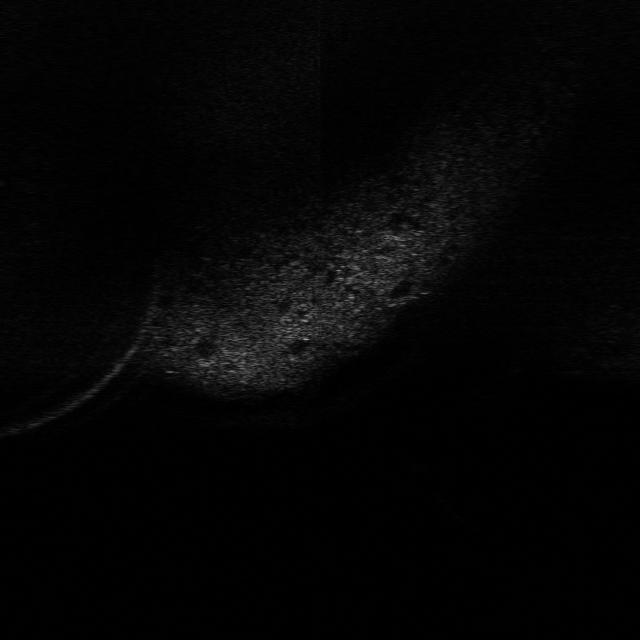cube: (390, 449, 450, 476)
